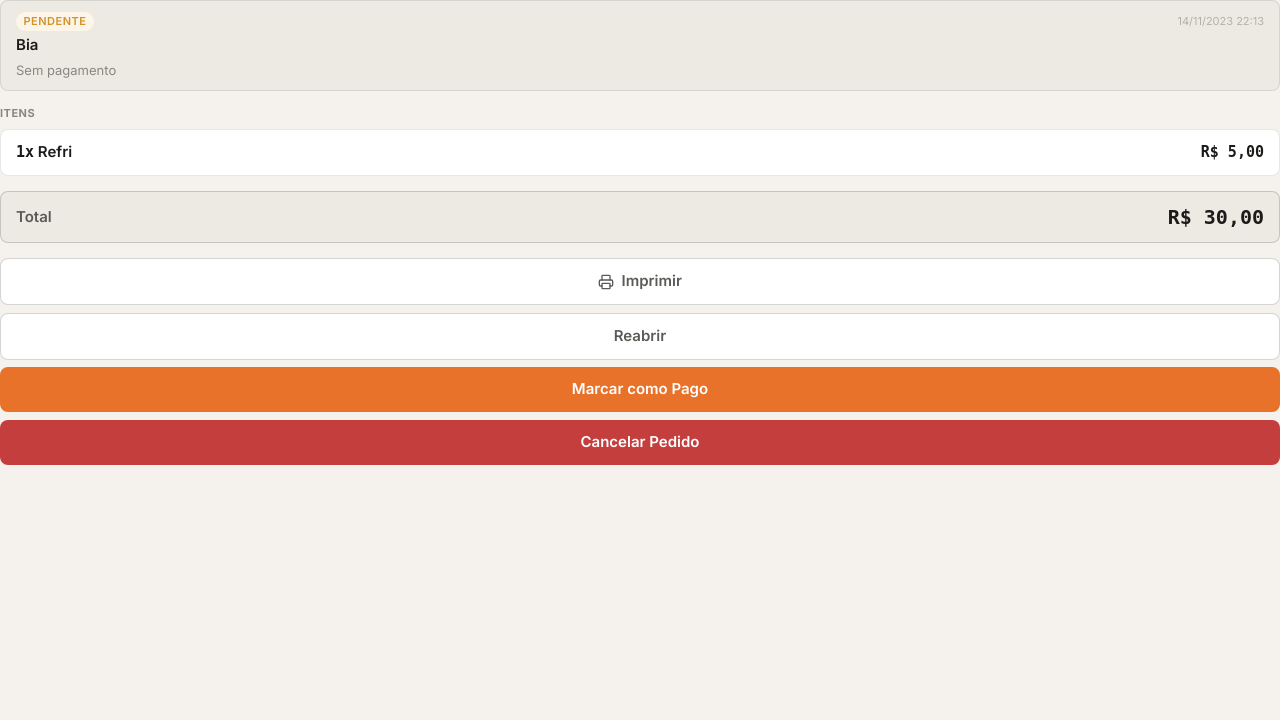
it: OrderDetail › fecha a confirmação de reabertura pelo backdrop
Click the button "Reabrir" at [640, 336], box [0,313,1279,360]
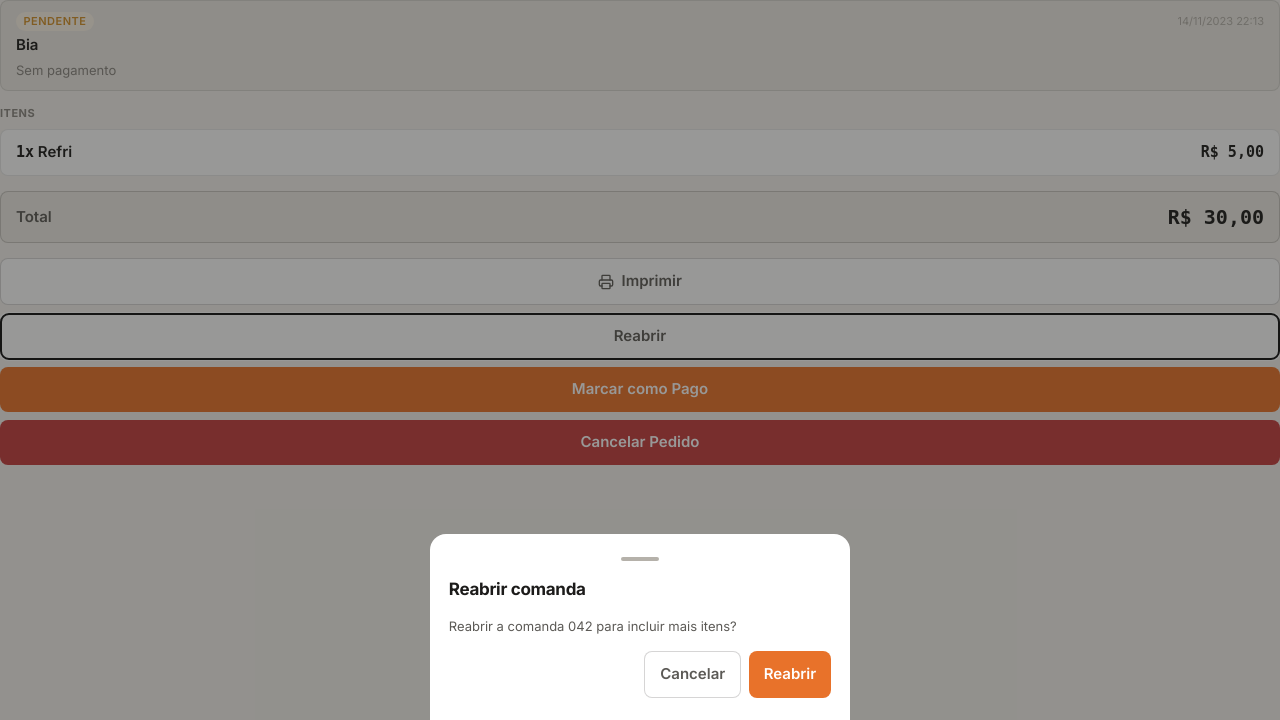
Click the element that starts with "Reabrir comanda" at [640, 360], box [0,0,1279,719]
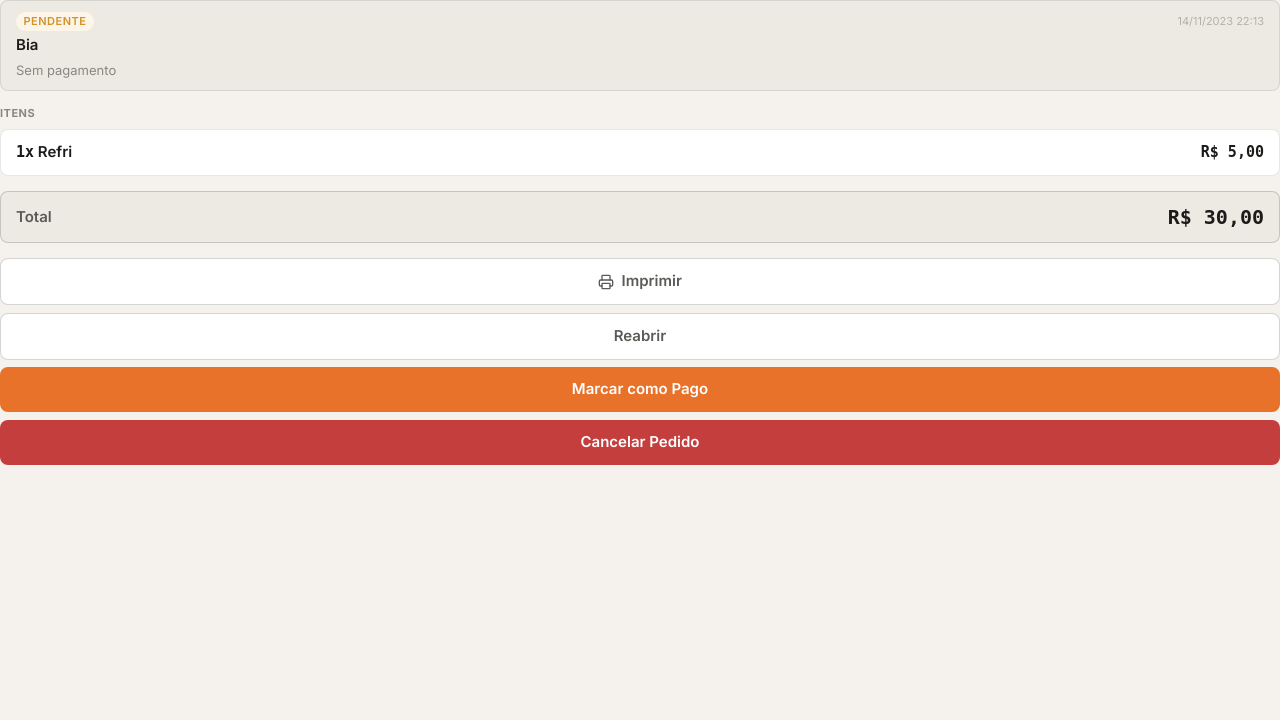
Check: the dialog is gone
